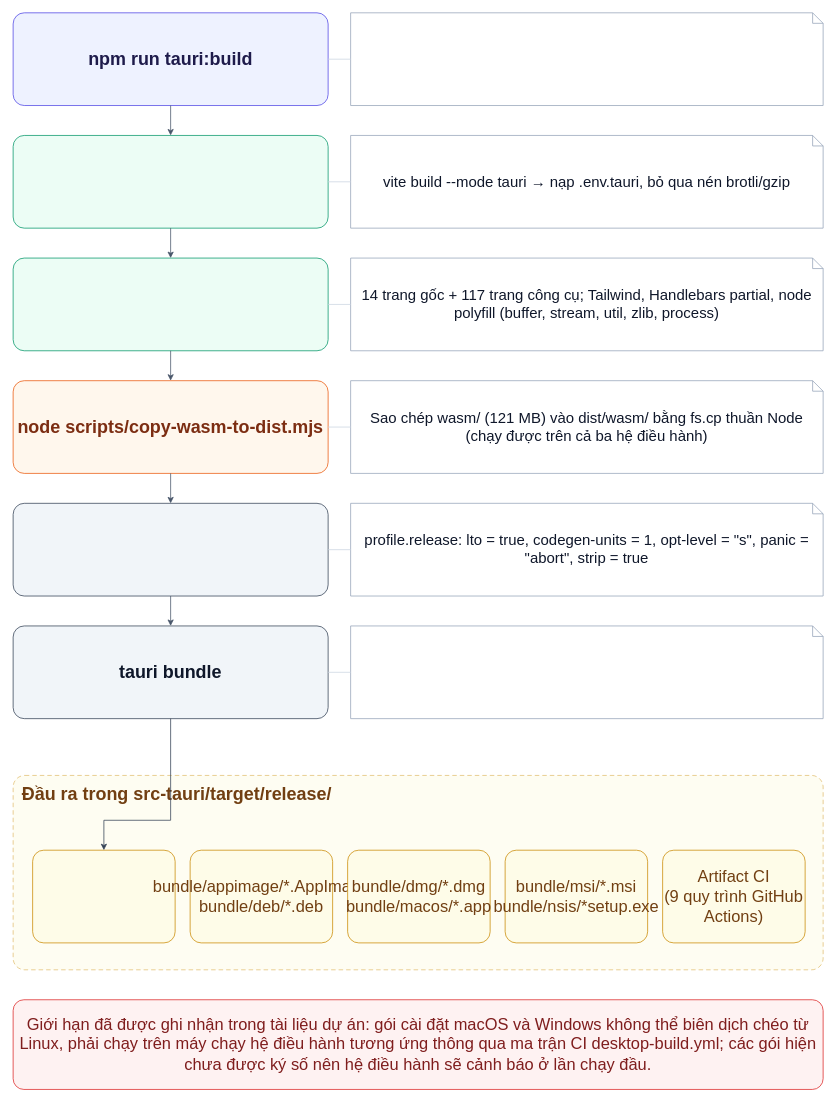
The diagram is 836 pixels wide and 1103 high, and some of its shapes have lost their labels. Here are the shapes that lost their labels. From the top down, the centre of each, then its label:
pixel 586 59: Kích hoạt beforeBuildCommand khai báo trong tauri.conf.json
pixel 170 181: npm run build:tauri
pixel 170 304: tsc + Vite: 131 điểm vào HTML
pixel 170 549: cargo build --release
pixel 586 672: Nhúng dist/ vào nhị phân và sinh gói cài đặt theo nền tảng
pixel 103 896: pdf-toolkit (nhị phân thô)
